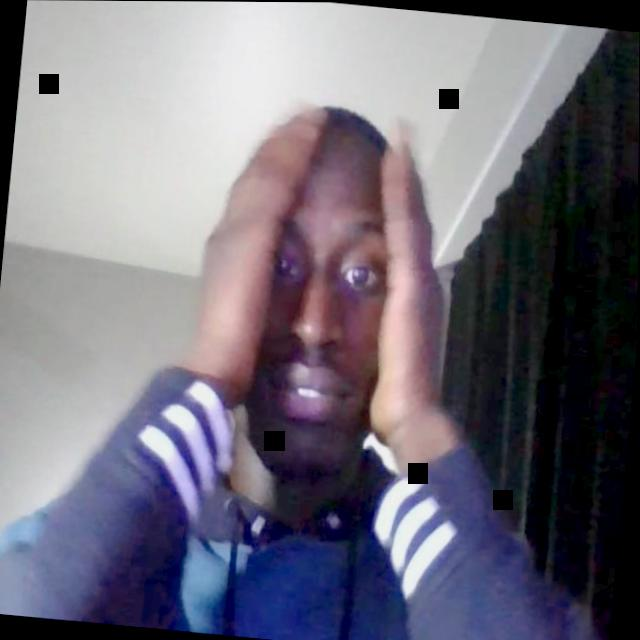NO-Mask: (240, 168, 402, 492)
